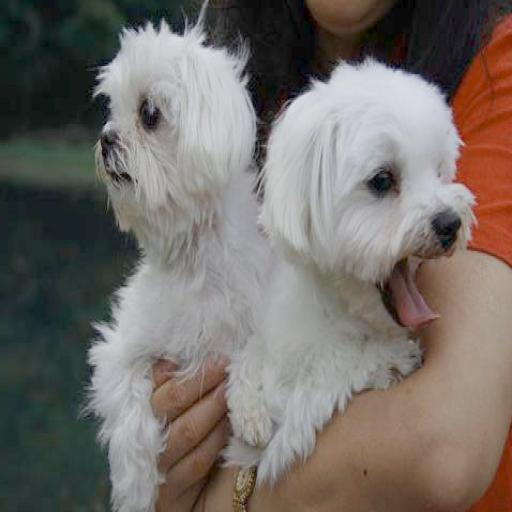dog_face: (294, 68, 457, 341), (98, 43, 243, 227)
